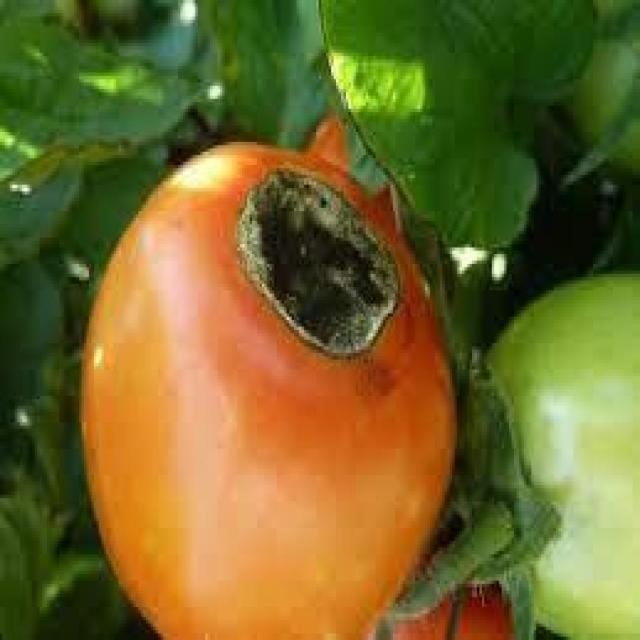Blossom End Rot Fruit: (158, 104, 274, 250)
